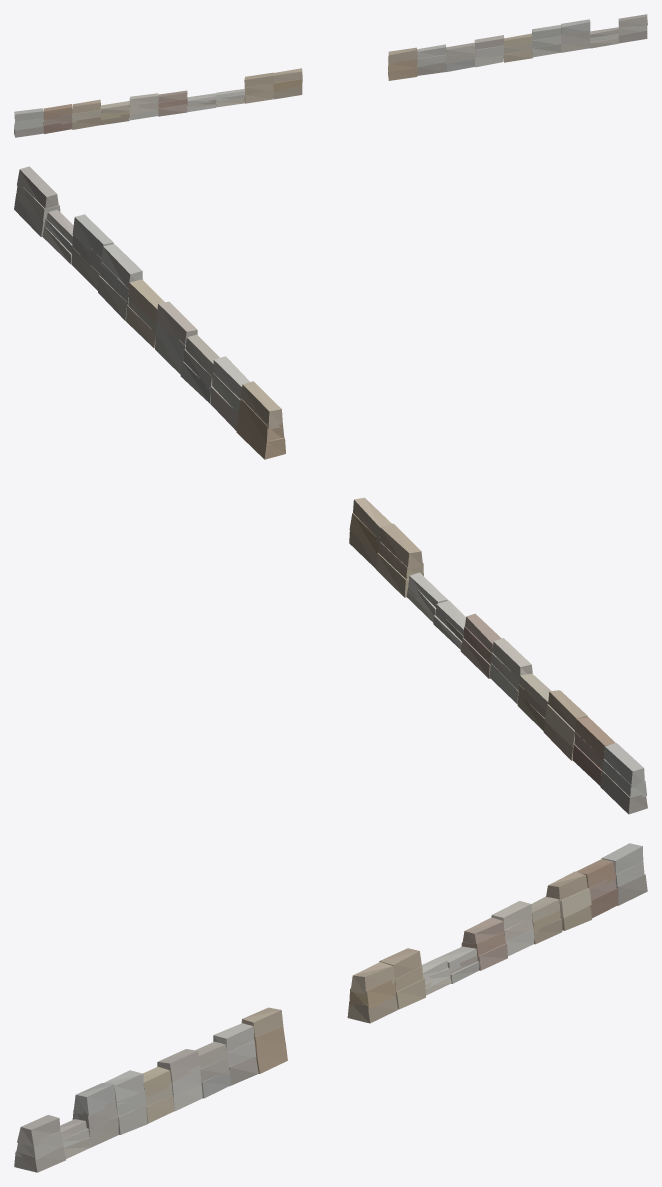
File: farm_0_-2_mid.glb
The picture shows the model from 3 angles, top to bottom: view 1: azimuth 30°, elevation 25°; view 2: azimuth 150°, elevation 25°; view 3: azimuth 270°, elevation 25°; orthographic projection. The views are drawn at different scales.
Visible parts, largest first — view 1: geometry_0; view 2: geometry_0; view 3: geometry_0.
Part boxes in pixels (<box>): geometry_0: <box>14,14,647,137</box>; geometry_0: <box>14,166,647,814</box>; geometry_0: <box>14,843,647,1172</box>.
Bounding box in the file's own units: 29.77 × 6.73 × 16.84.
